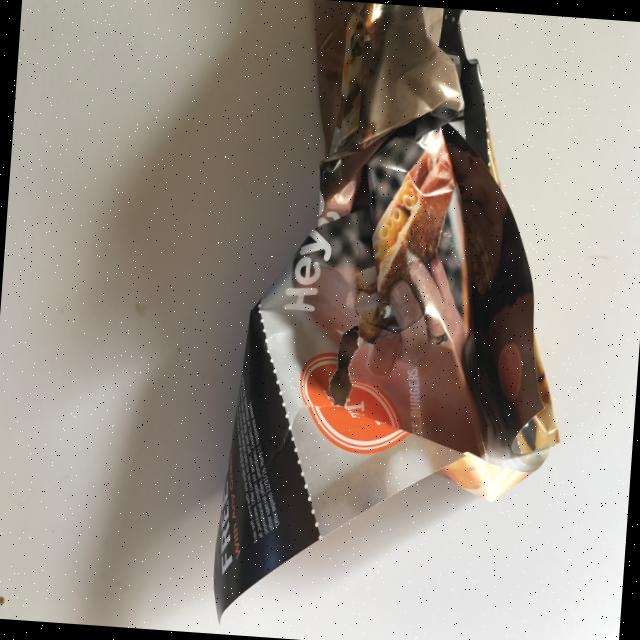paper: (208, 0, 588, 640)
